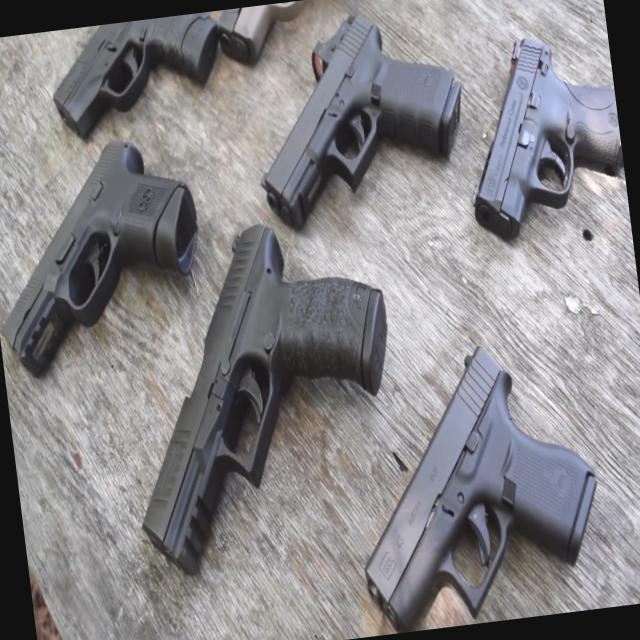handgun: (113, 238, 431, 560), (319, 337, 639, 630), (210, 0, 500, 236), (0, 134, 220, 397), (442, 10, 631, 250), (19, 10, 238, 150)
